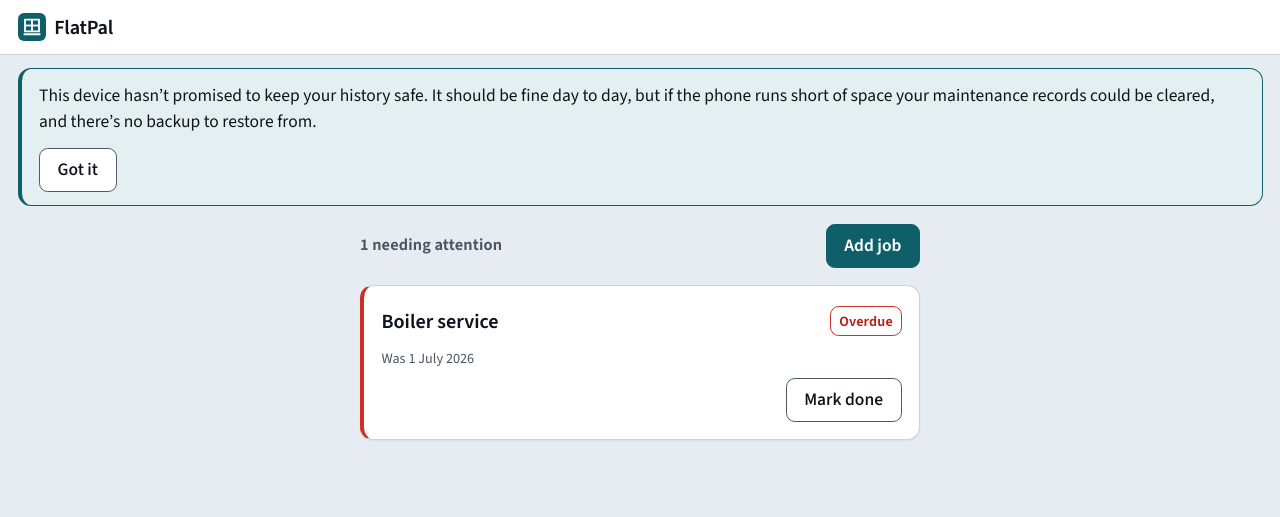
Test case: correcting a job › moves the next due date the moment the interval changes
Click the button "Boiler service" at (440, 321), box [382,299,499,343]
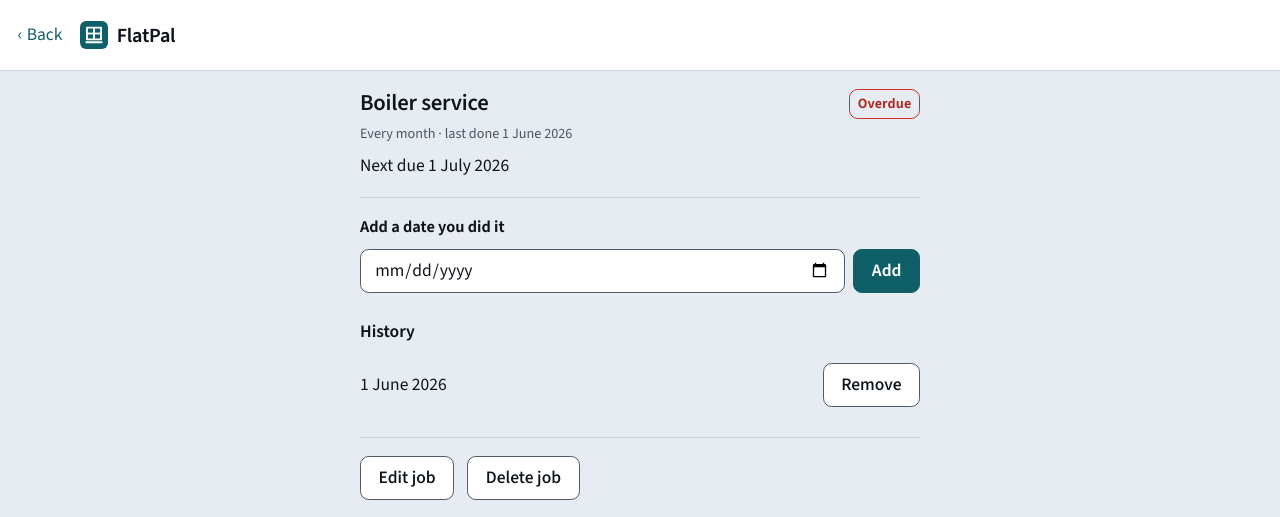
Now the text "Next due 1 July 2026" is shown, box [360,153,509,178]
Click the button "Edit job" at (407, 478), box [360,456,454,500]
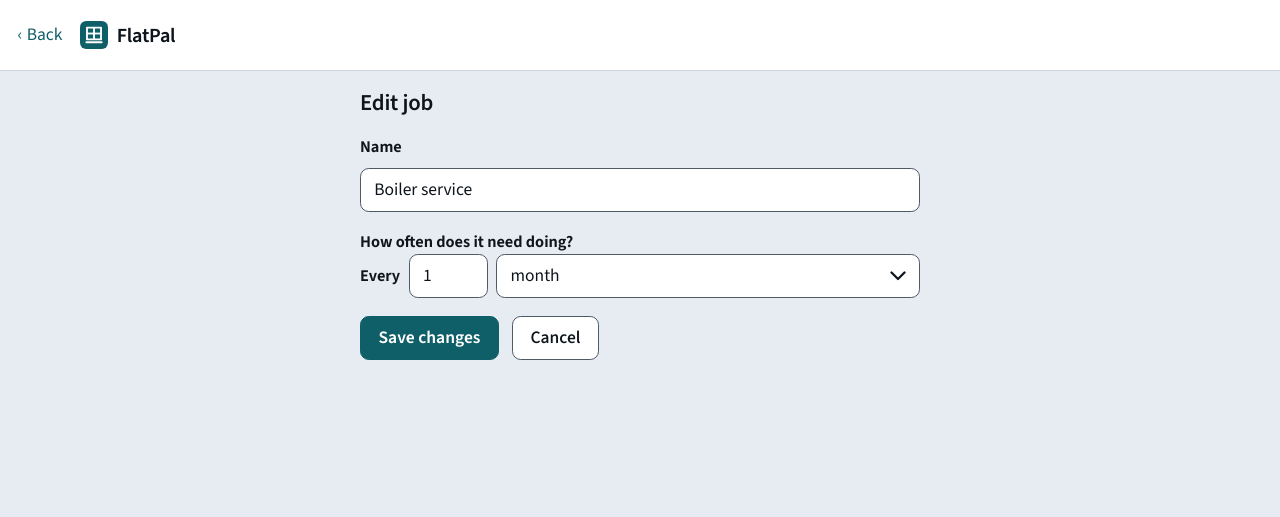
Now the heading "Edit job" is shown, box [360,87,433,119]
Clear the number field labelled "Every" at (448, 276), box [409,254,488,298]
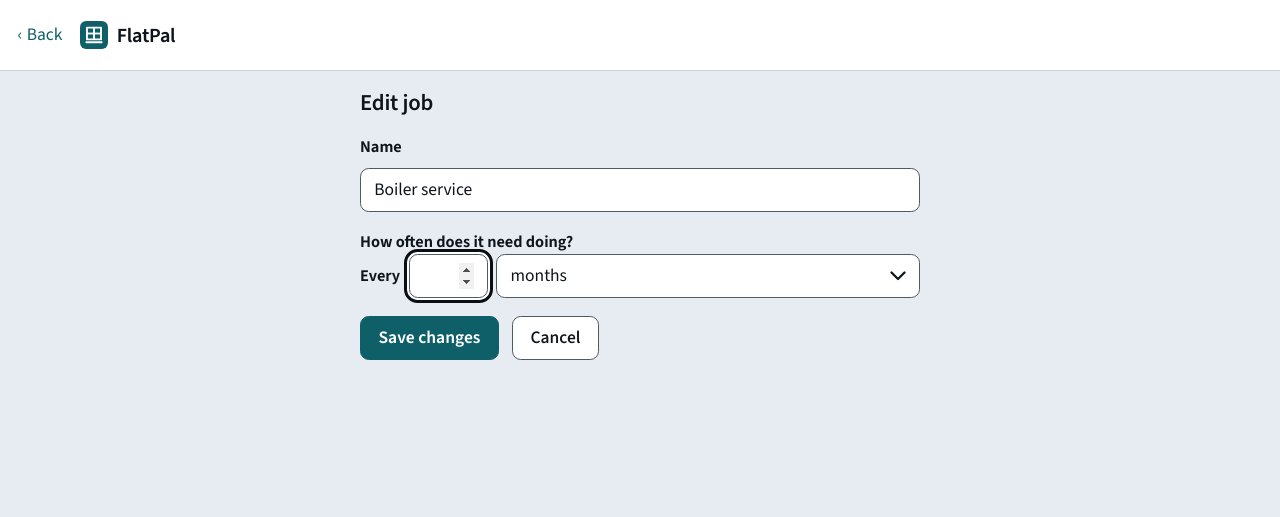
Type "6" into the number field labelled "Every" at (448, 276), box [409,254,488,298]
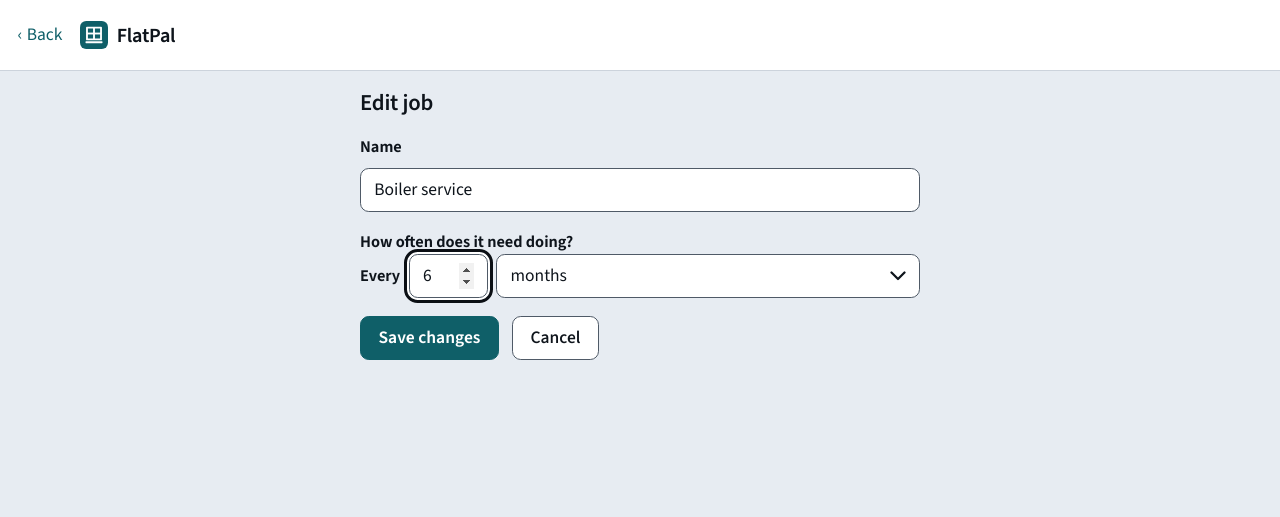
Click the button "Save changes" at (429, 338), box [360,316,499,360]
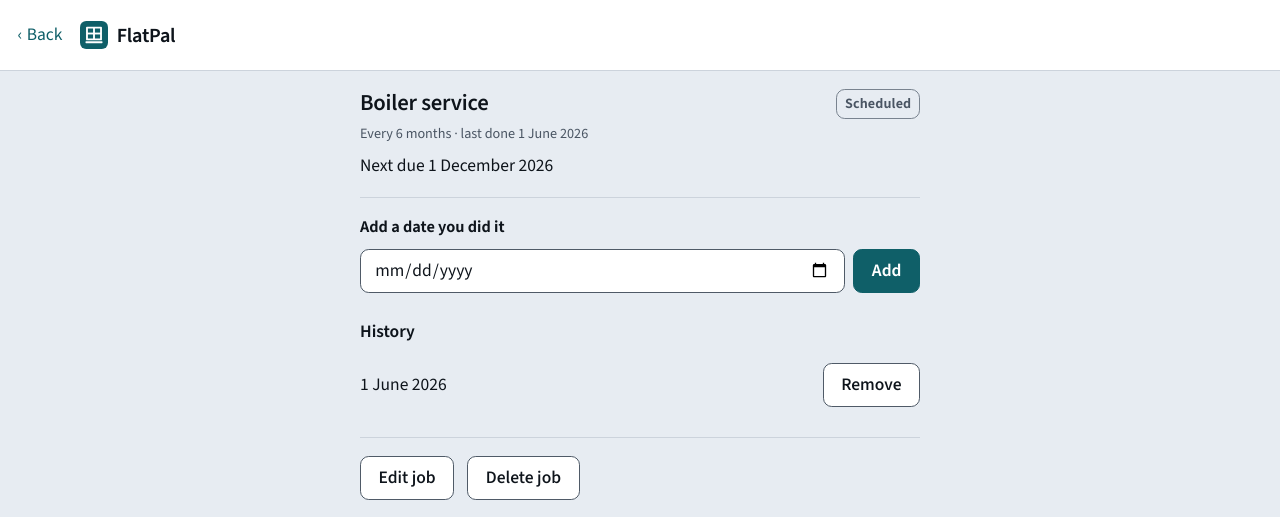
Expected: the text "Next due 1 July 2026" is not shown
Now the text "Next due 1 December 2026" is shown, box [360,153,553,178]
